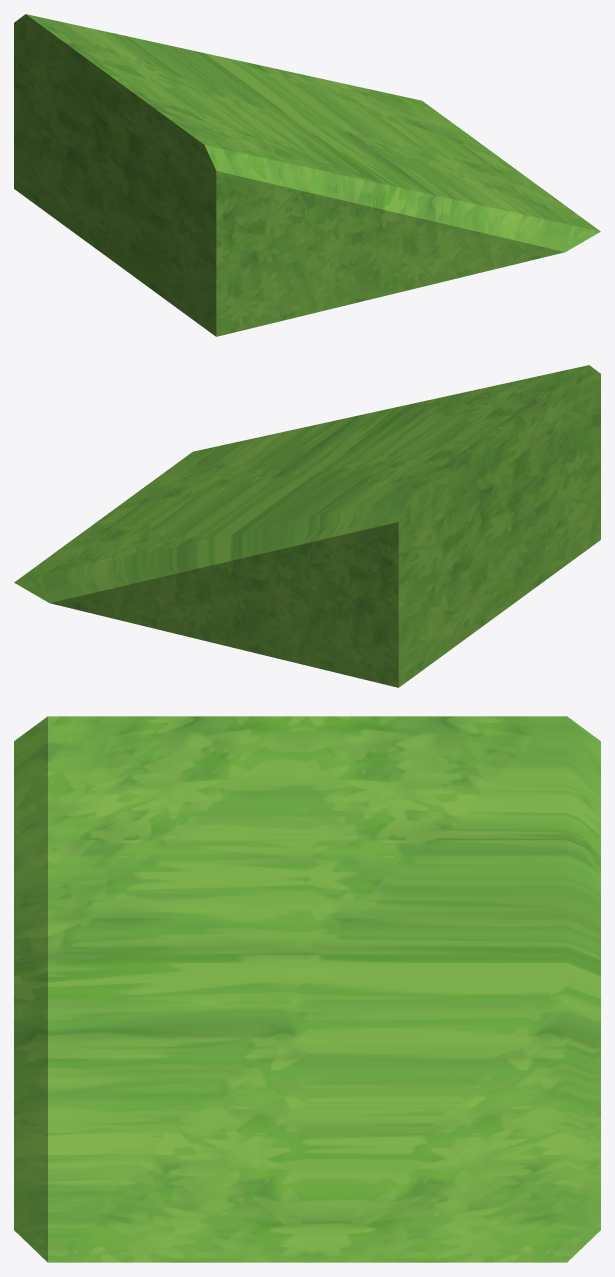
The model's file is Ramp_1x1x2.fbx.
3 renders of one model, top to bottom at view 1: azimuth 30°, elevation 25°; view 2: azimuth 150°, elevation 25°; view 3: azimuth 270°, elevation 25°, orthographic. The views are drawn at different scales.
Parts seen in each view (by area): view 1: Ramp; view 2: Ramp; view 3: Ramp.
Boxes of the visible parts, x1,y1,x2,y2 form: Ramp: [14, 14, 600, 336]; Ramp: [14, 365, 600, 687]; Ramp: [14, 716, 600, 1262].
Size of the model in its own units: 2.26 by 2 by 1.
